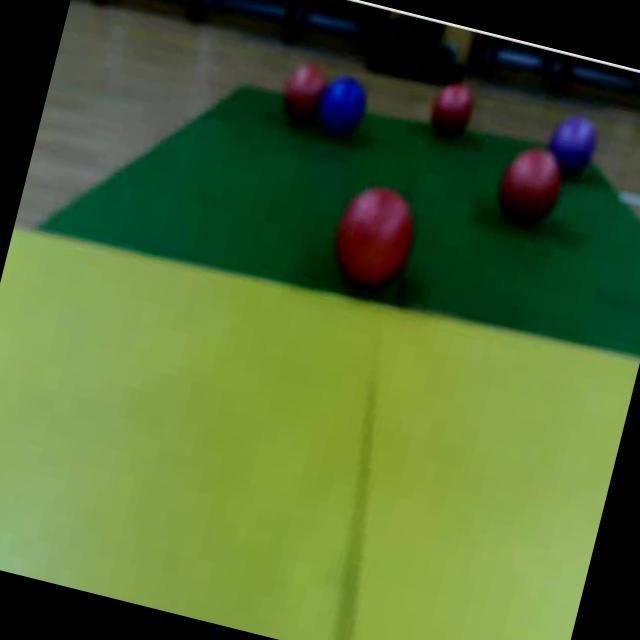blue_ball: (310, 70, 378, 146)
purple_ball: (546, 110, 604, 167)
red_ball: (318, 174, 430, 304), (490, 145, 566, 238), (424, 80, 479, 149), (274, 65, 326, 133)
